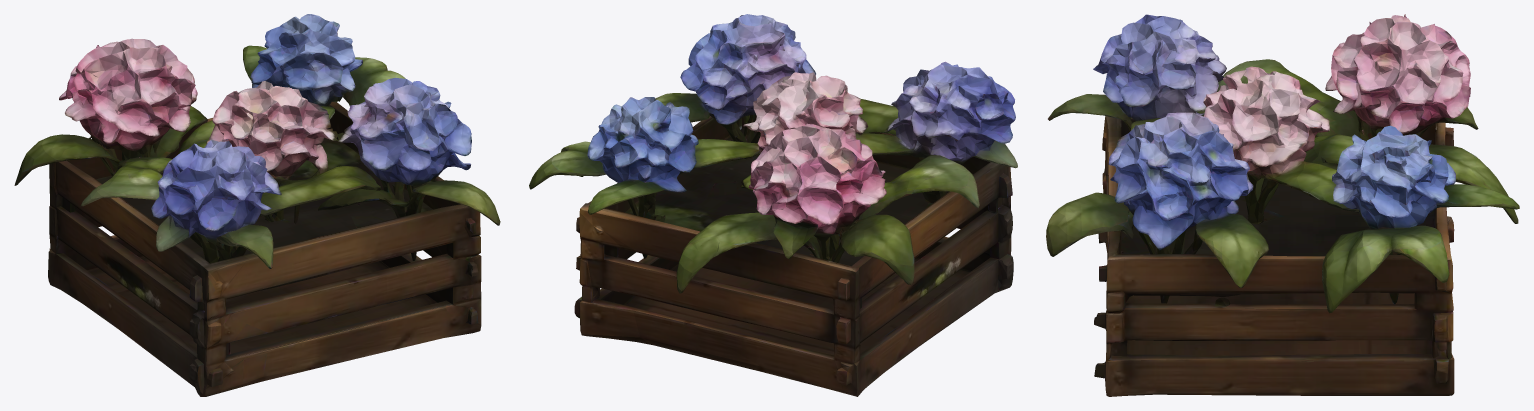
3 views of the same model, side by side, from view 1: azimuth 30°, elevation 25°; view 2: azimuth 150°, elevation 25°; view 3: azimuth 270°, elevation 25° (orthographic). The views are drawn at different scales.
Visible parts, largest first — view 1: world; view 2: world; view 3: world.
Part boxes in pixels (box(x1,y1,x2,y2)): world: box(14, 14, 500, 396); world: box(529, 14, 1017, 396); world: box(1046, 14, 1519, 396).
Bounding box in the file's own units: 0.993 × 0.6075 × 0.9964.
1 material, 1 textured.
